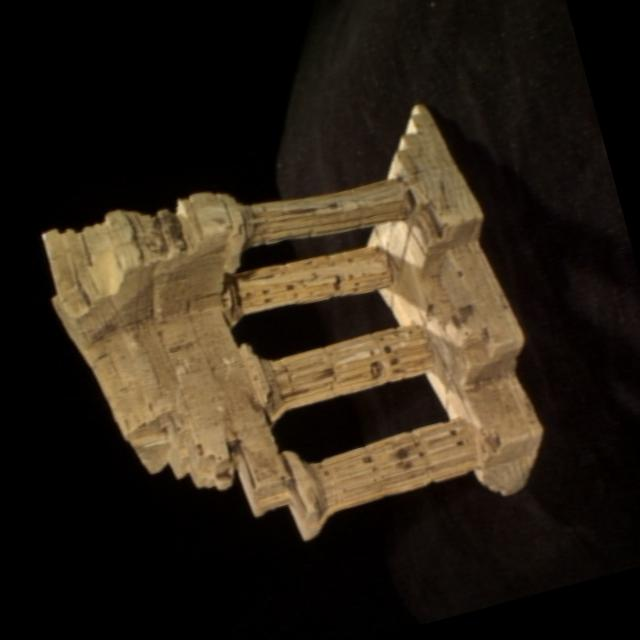Instance-Segmentation: (42, 103, 541, 538)
